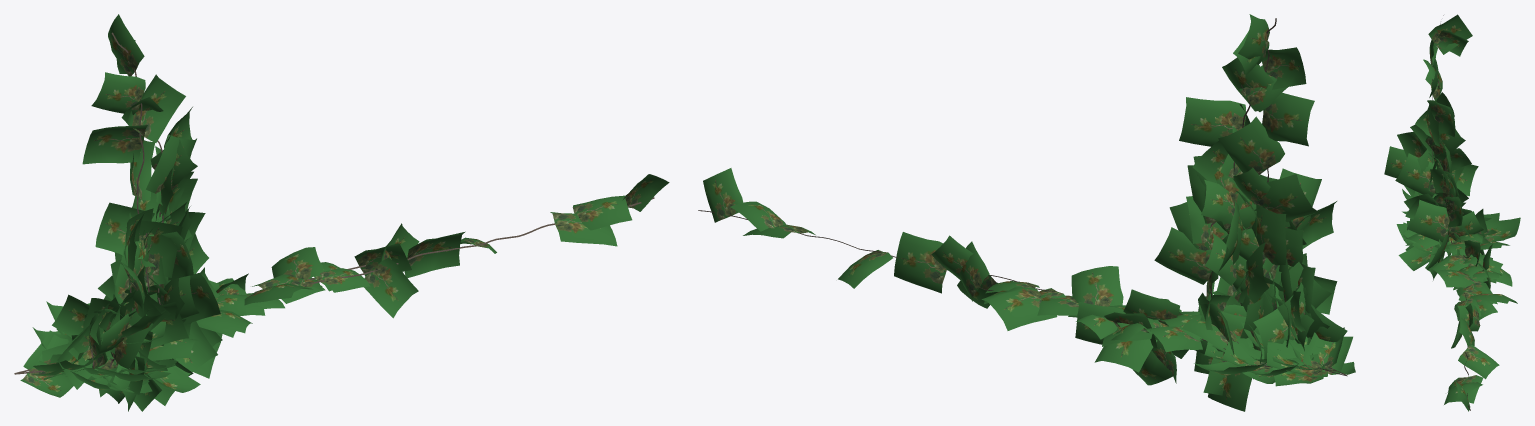
The model's file is SM_Climber_04a.fbx.
3 views of the same model, side by side, from view 1: azimuth 30°, elevation 25°; view 2: azimuth 150°, elevation 25°; view 3: azimuth 270°, elevation 25° (orthographic). The views are drawn at different scales.
Visible parts, largest first — view 1: SM_Climber_04a_LOD0; view 2: SM_Climber_04a_LOD0; view 3: SM_Climber_04a_LOD0.
Part boxes in pixels (x1,y1,x2,y2): SM_Climber_04a_LOD0: (14,14,669,411); SM_Climber_04a_LOD0: (698,14,1355,411); SM_Climber_04a_LOD0: (1384,14,1520,411).
Size of the model in its own units: 1874 by 505 by 1077.
